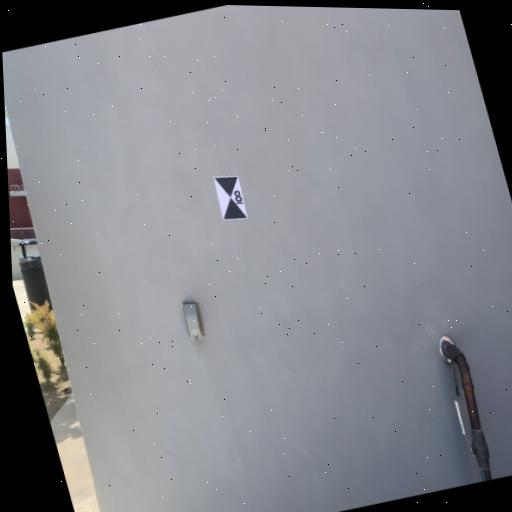target8: (213, 172, 251, 224)
